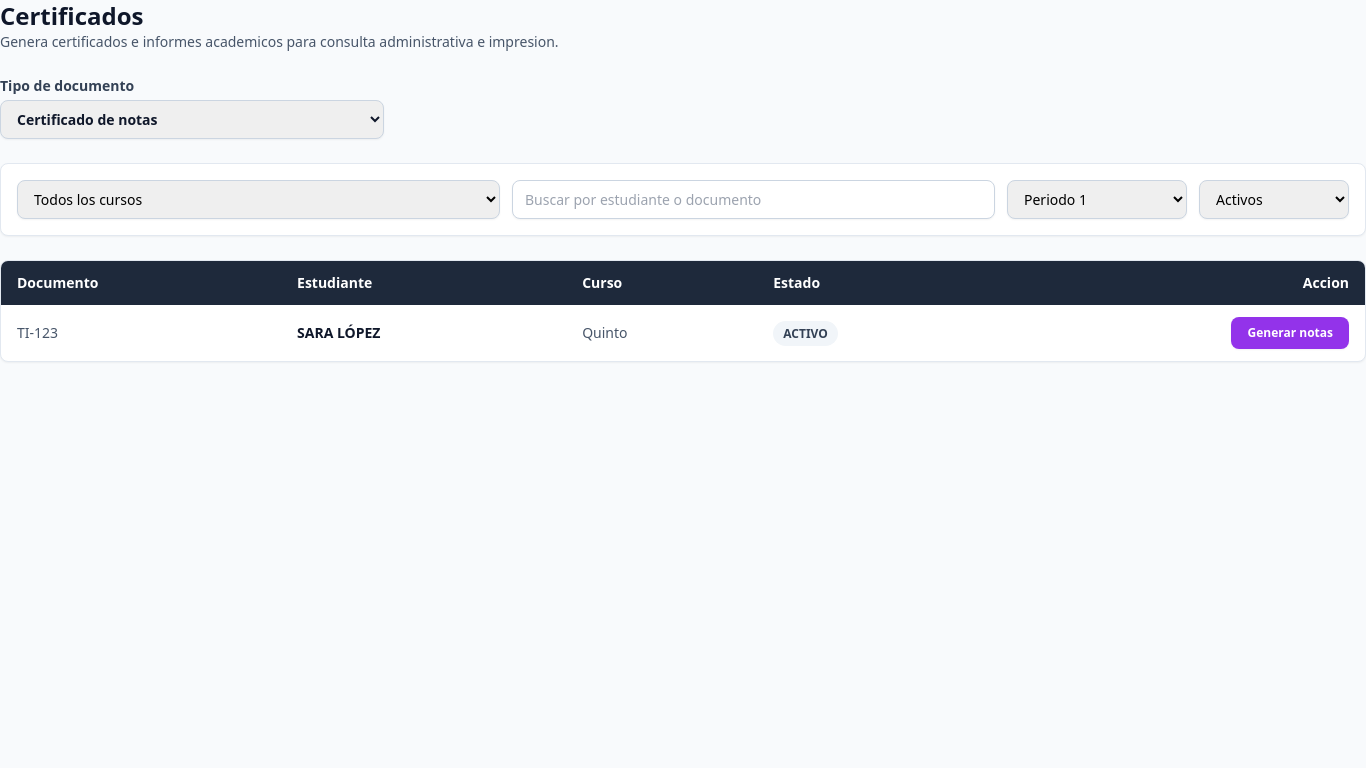
Scenario: CertificadosAdmin › arma la matrícula con el formato de los modelos: pide solo la ficha, por el tipo de documento
Check: the text "TI-123" is shown, box [1, 305, 281, 361]
Select "Certificado de matrícula" in the dropdown labelled "Tipo de documento" at (192, 120), box [0, 100, 384, 139]
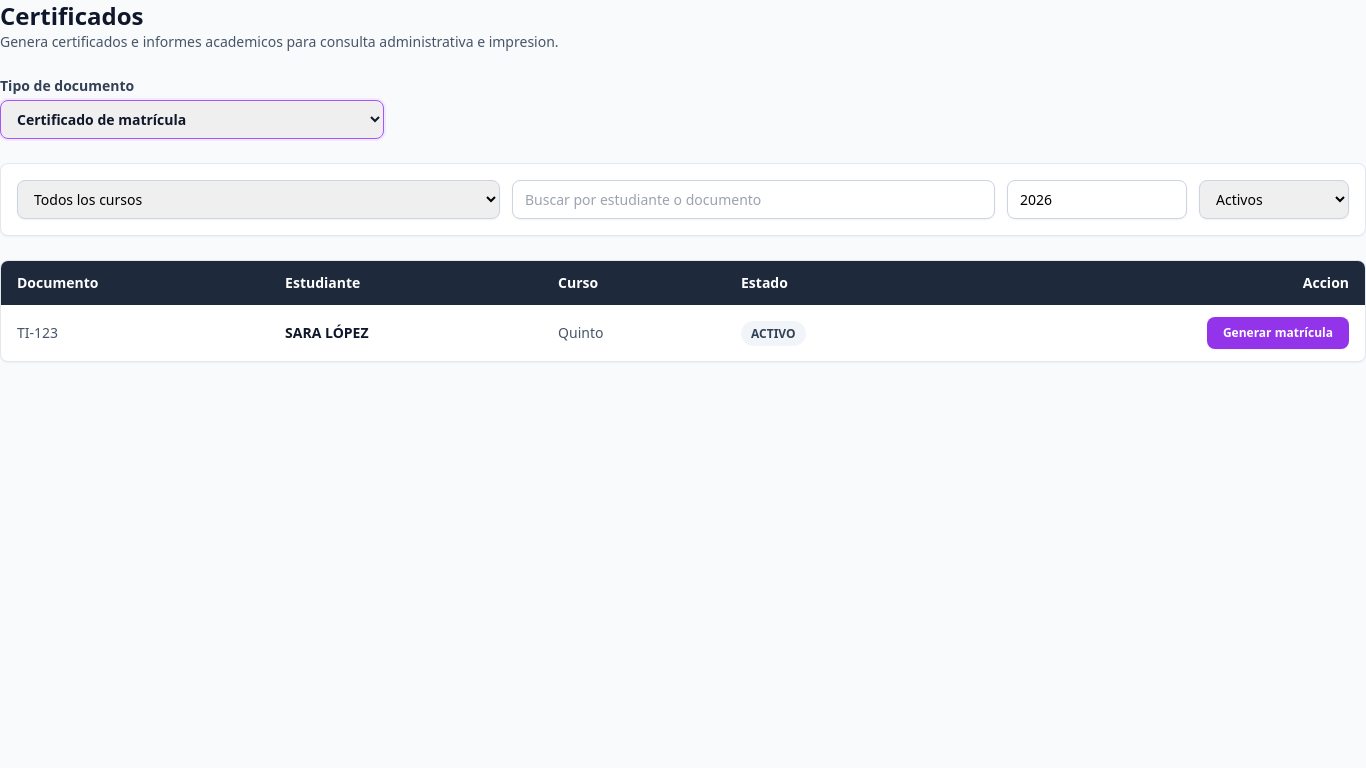
Replace the text in the number field with "2027" at (1097, 200), box [1007, 180, 1187, 219]
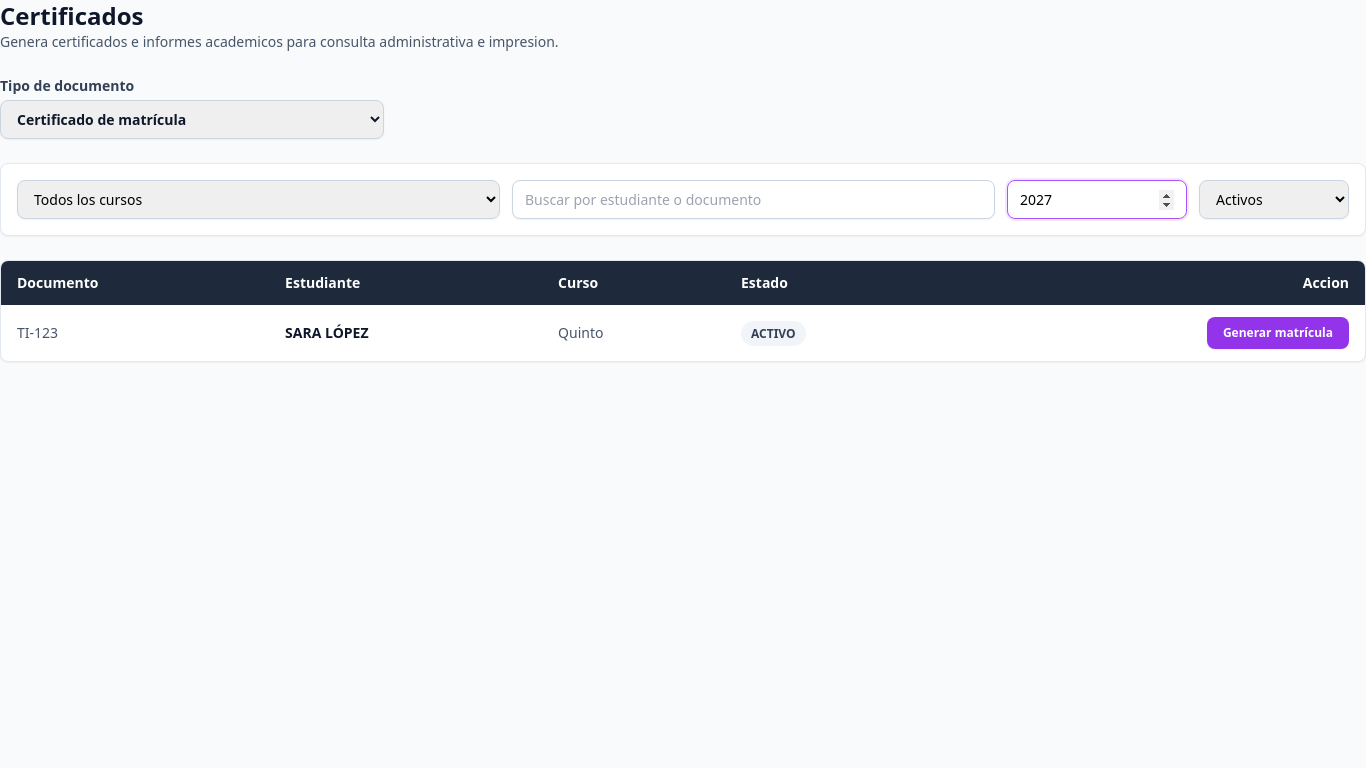
Click the button "Generar matrícula" at (1278, 333), box [1207, 317, 1349, 349]
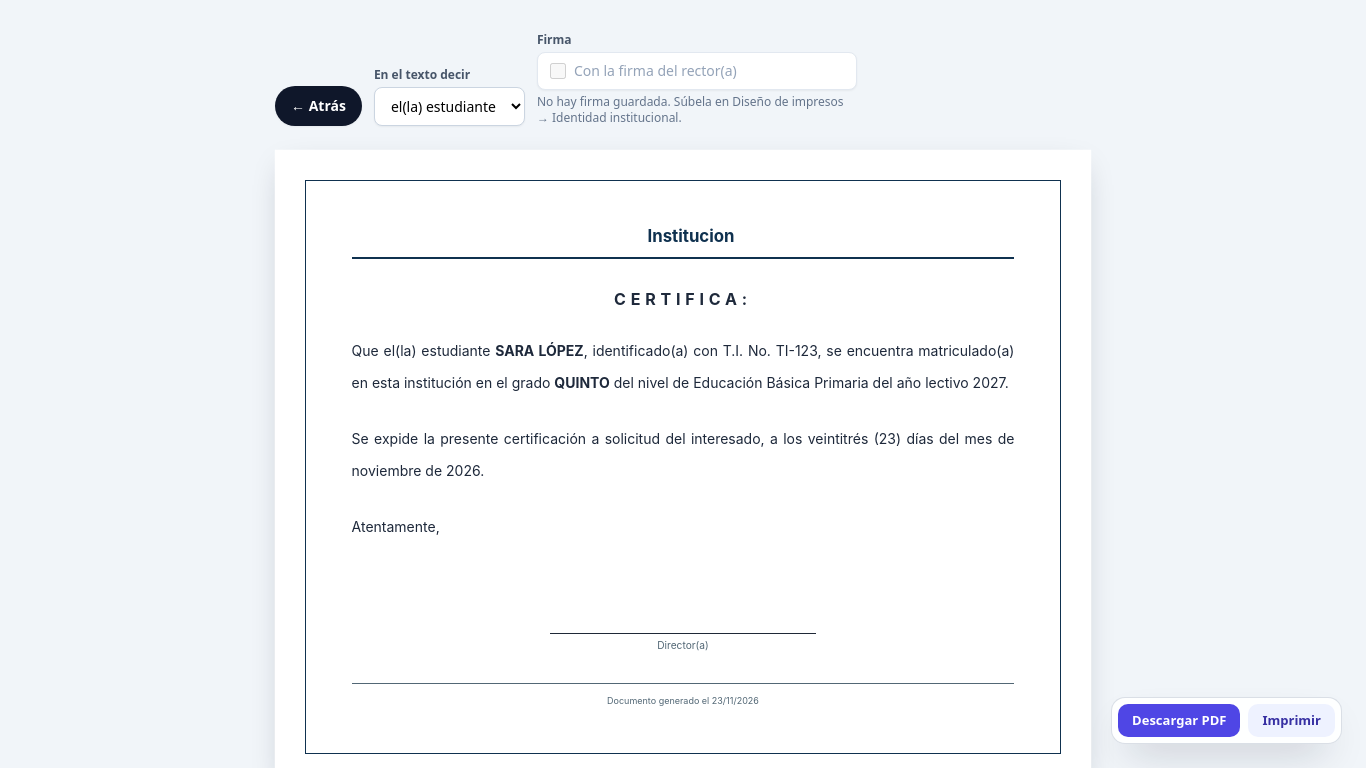
Check: the text "CERTIFICA:" is shown, box [614, 289, 752, 309]
